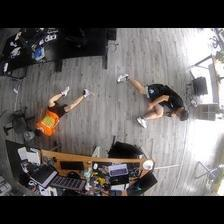fall: (116, 74, 189, 130), (34, 84, 91, 137)
